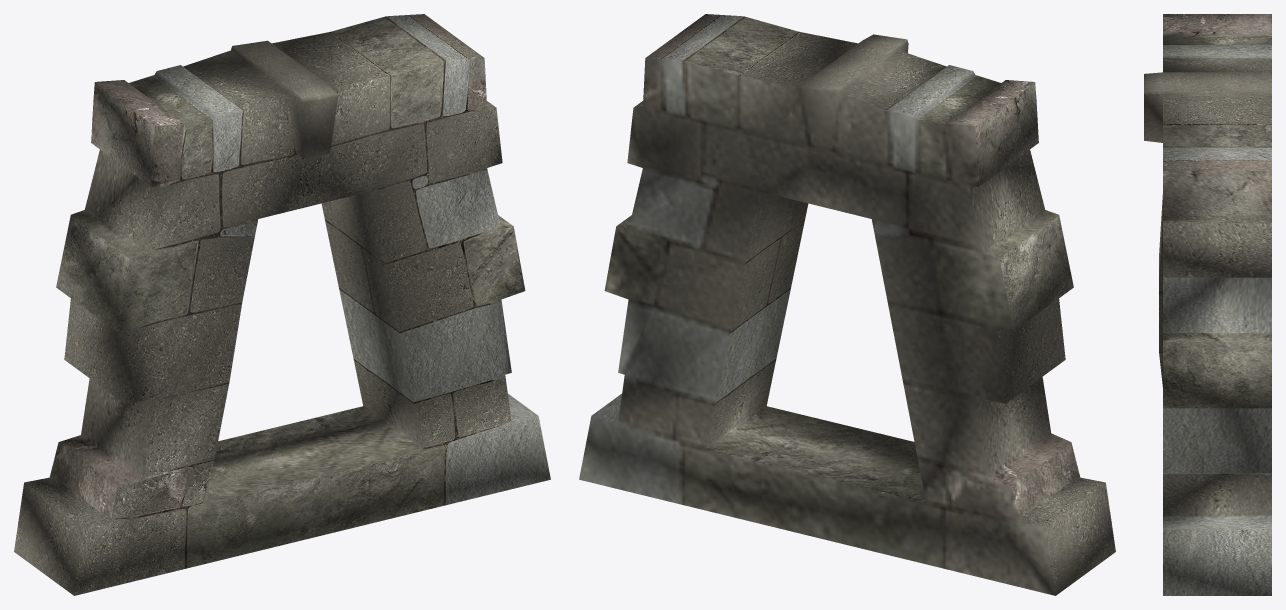
The model's file is Portal.gltf.
3 renders of one model, left to right at view 1: azimuth 30°, elevation 25°; view 2: azimuth 150°, elevation 25°; view 3: azimuth 270°, elevation 25°, orthographic. The views are drawn at different scales.
Visible parts, largest first — view 1: Cube; view 2: Cube; view 3: Cube.
Boxes of the visible parts, x1,y1,x2,y2 form: Cube: (14, 14, 550, 595); Cube: (579, 14, 1115, 595); Cube: (1144, 14, 1271, 595).
Bounding box in the file's own units: 4.53 × 4.11 × 1.16.
Materials: 1 (1 with a texture image).
